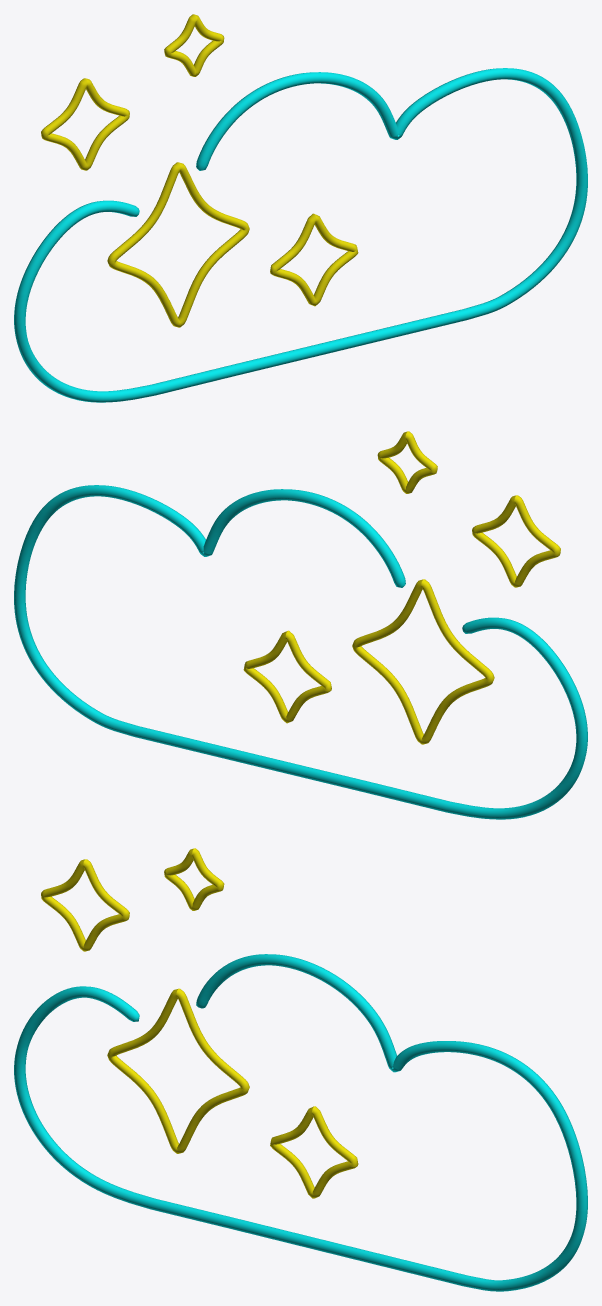
The model's file is Clouds_NEON_sign.fbx.
3 renders of one model, top to bottom at view 1: azimuth 30°, elevation 25°; view 2: azimuth 150°, elevation 25°; view 3: azimuth 330°, elevation 25°, orthographic.
Parts seen in each view (by area): view 1: sweep20, sweep21, sweep23, sweep22, sweep24; view 2: sweep20, sweep21, sweep23, sweep22, sweep24; view 3: sweep20, sweep21, sweep23, sweep22, sweep24.
Part boxes in pixels (x1,y1,x2,y2): sweep20: (14,68,587,402); sweep21: (107,162,249,327); sweep23: (41,78,129,170); sweep22: (270,213,358,306); sweep24: (164,14,224,76); sweep20: (14,485,587,819); sweep21: (352,579,494,744); sweep23: (472,495,560,587); sweep22: (243,630,331,723); sweep24: (377,431,437,493); sweep20: (14,954,587,1291); sweep21: (107,988,249,1153); sweep23: (41,859,129,951); sweep22: (270,1106,358,1198); sweep24: (164,848,224,910).
Size of the model in its own units: 176 by 109 by 3.22.
